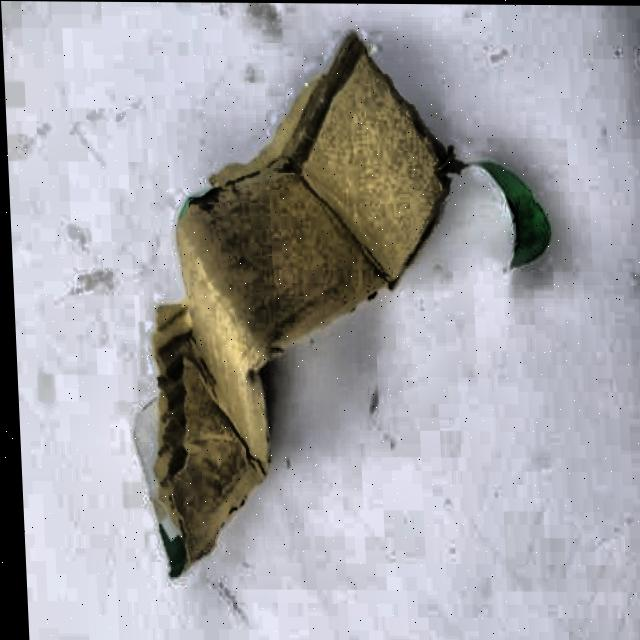cardboard: (116, 42, 471, 587)
